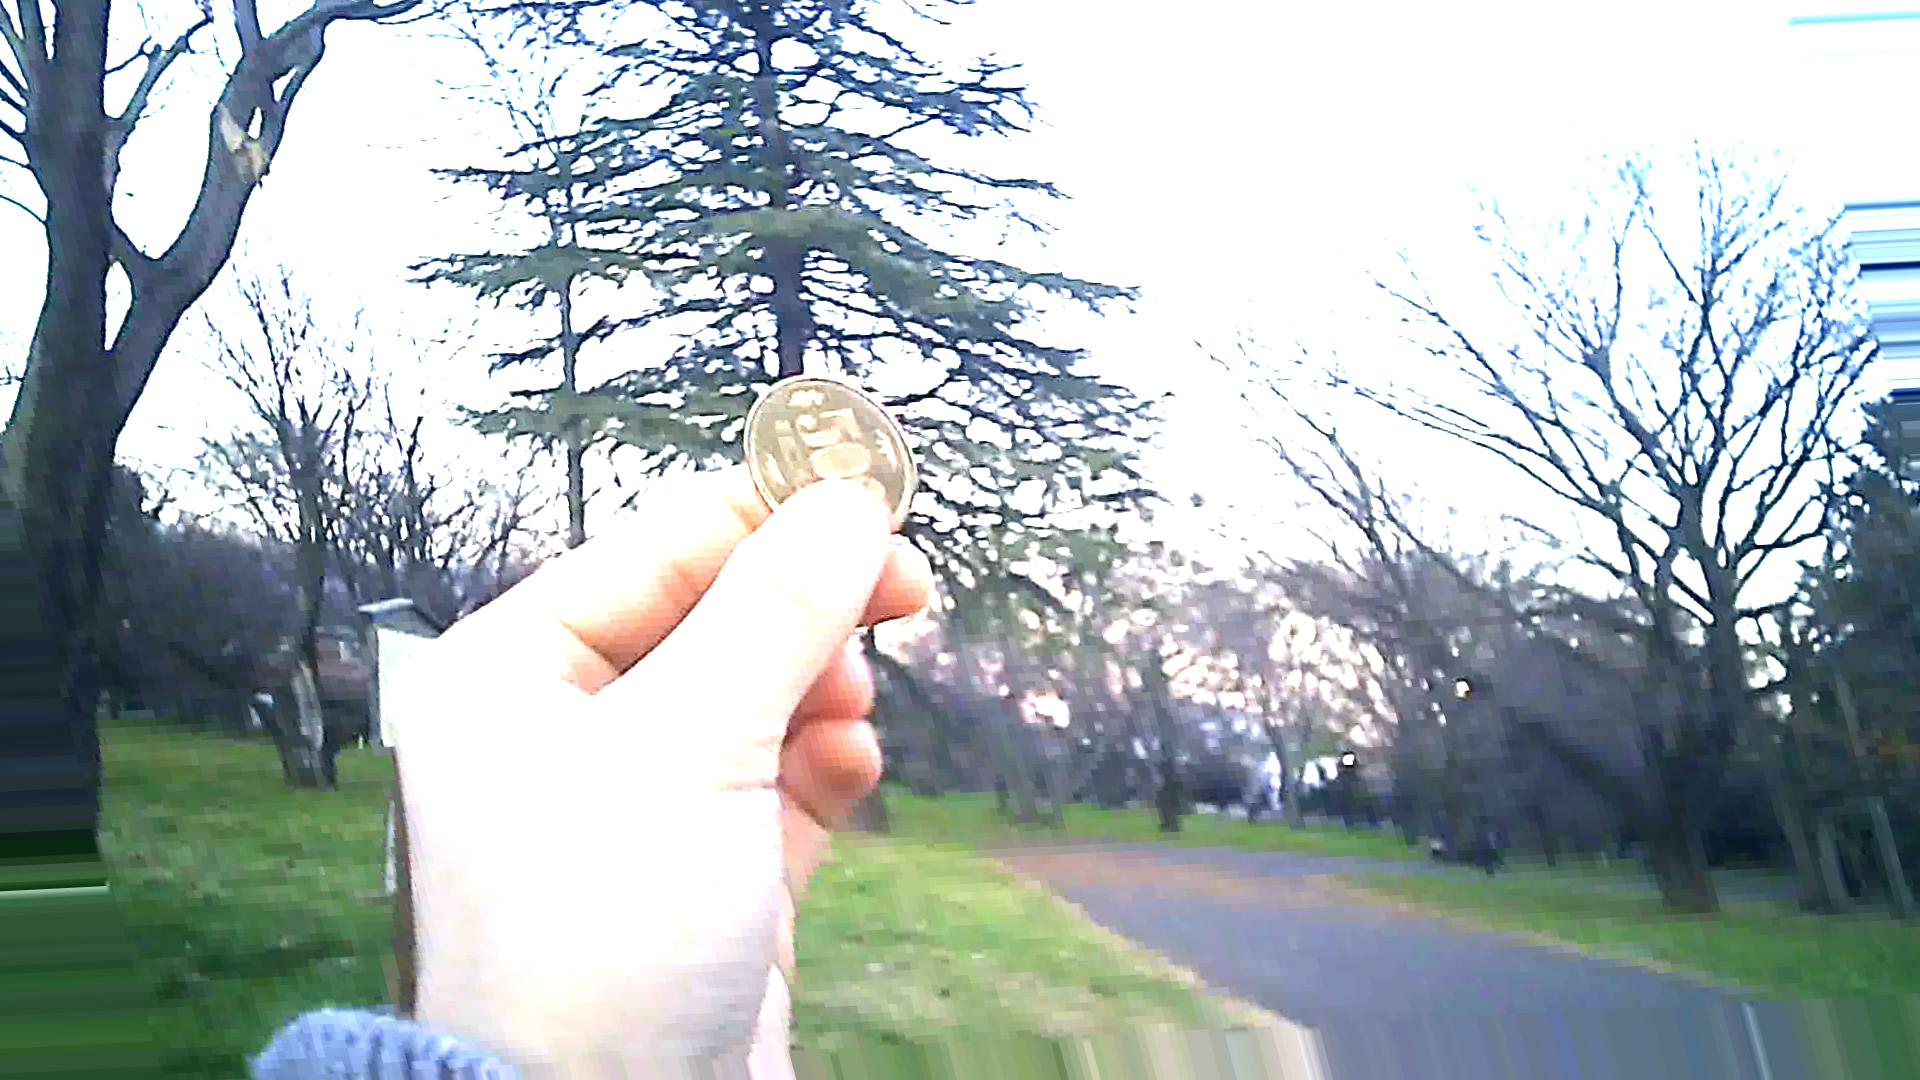500 Yen: (746, 371, 928, 539)
